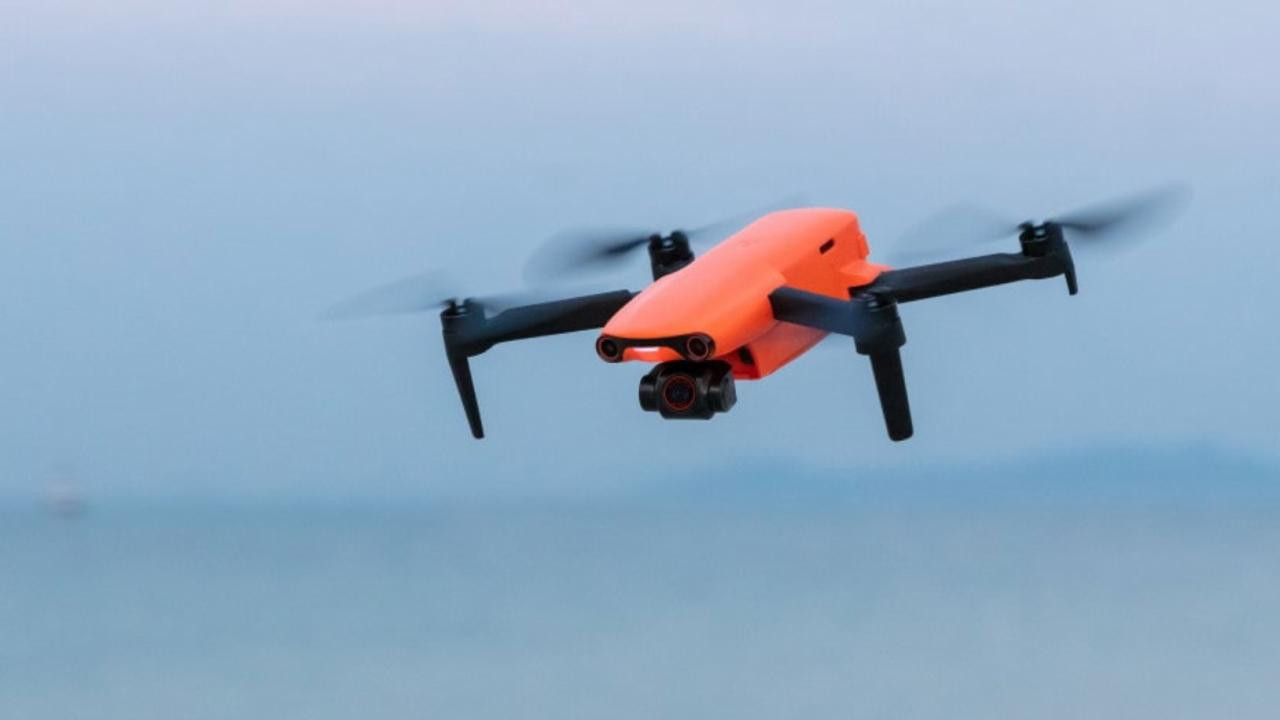Drone: (316, 146, 1203, 476)
